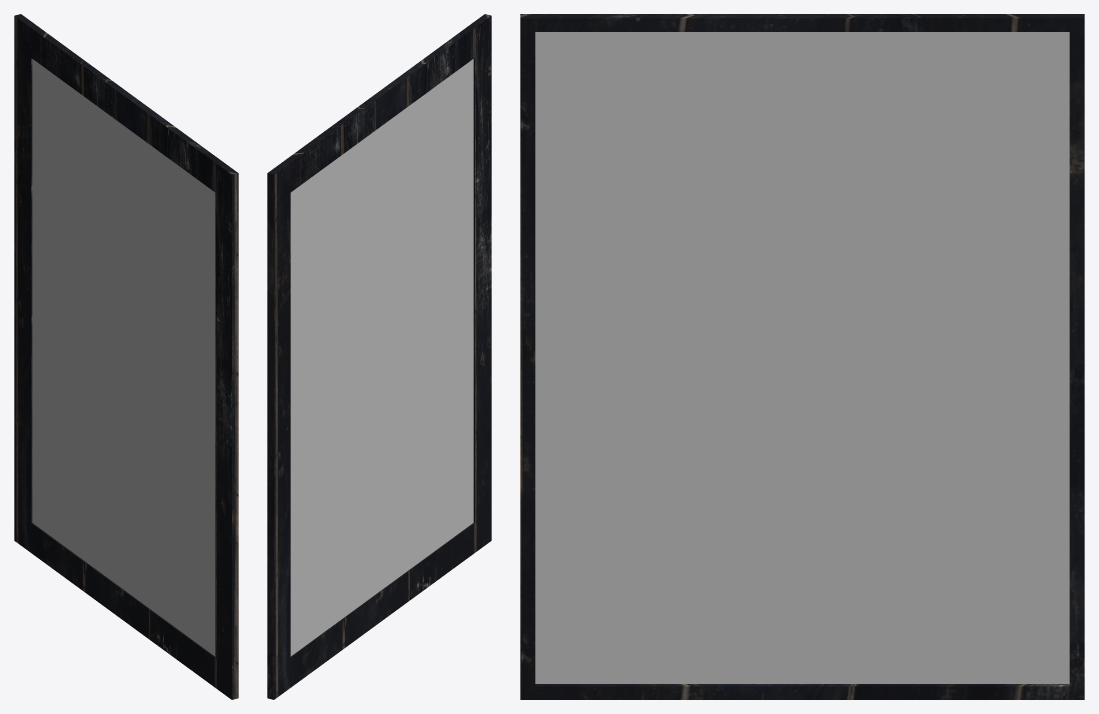
File: BathroomDoor.fbx
3 renders of one model, left to right at view 1: azimuth 30°, elevation 25°; view 2: azimuth 150°, elevation 25°; view 3: azimuth 270°, elevation 25°, orthographic. The views are drawn at different scales.
Parts seen in each view (by area): view 1: Door; view 2: Door; view 3: Door.
Boxes of the visible parts, left/top/right/bottom form: Door: left=14, top=14, right=238, bottom=699; Door: left=267, top=14, right=491, bottom=699; Door: left=520, top=14, right=1084, bottom=699.
Size of the model in its own units: 5.48 by 414 by 311.
